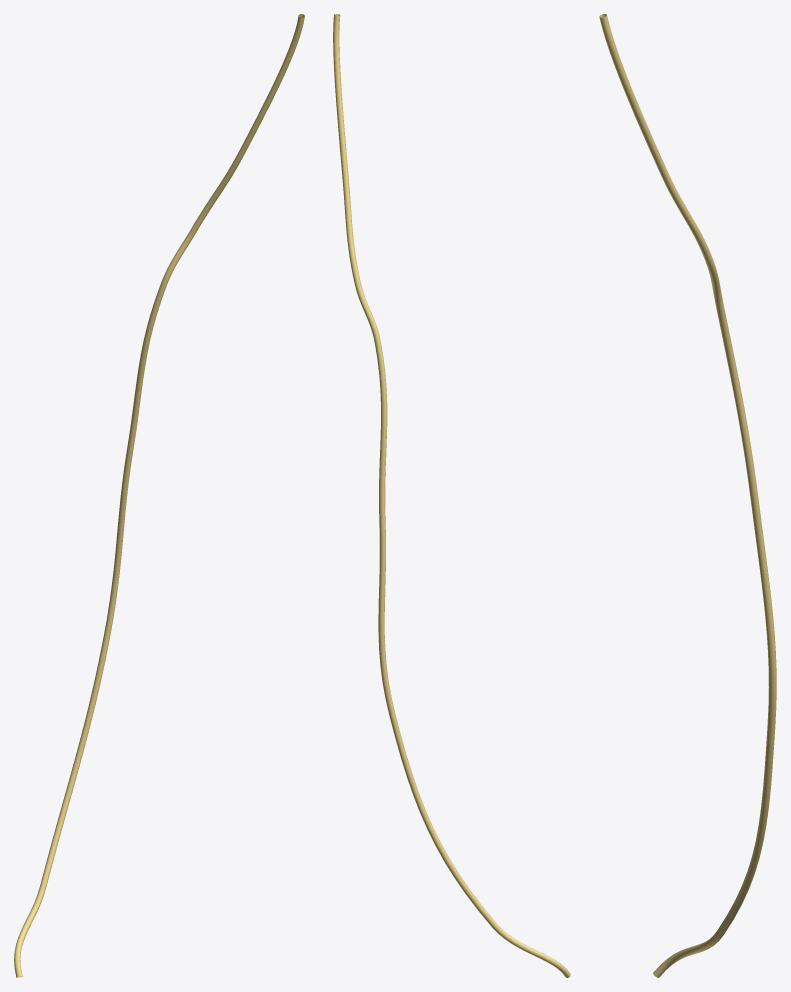
The picture shows the model from 3 angles, left to right: view 1: azimuth 30°, elevation 25°; view 2: azimuth 150°, elevation 25°; view 3: azimuth 270°, elevation 25°; orthographic projection. The views are drawn at different scales.
Parts seen in each view (by area): view 1: ZA_89aa6dc0468c6bd4; view 2: ZA_89aa6dc0468c6bd4; view 3: ZA_89aa6dc0468c6bd4.
Part boxes in pixels (bbox=[...]): ZA_89aa6dc0468c6bd4: bbox=[14, 14, 304, 977]; ZA_89aa6dc0468c6bd4: bbox=[333, 14, 570, 977]; ZA_89aa6dc0468c6bd4: bbox=[599, 14, 776, 977].
Bounding box in the file's own units: 0.0472 × 0.1552 × 0.0223.
